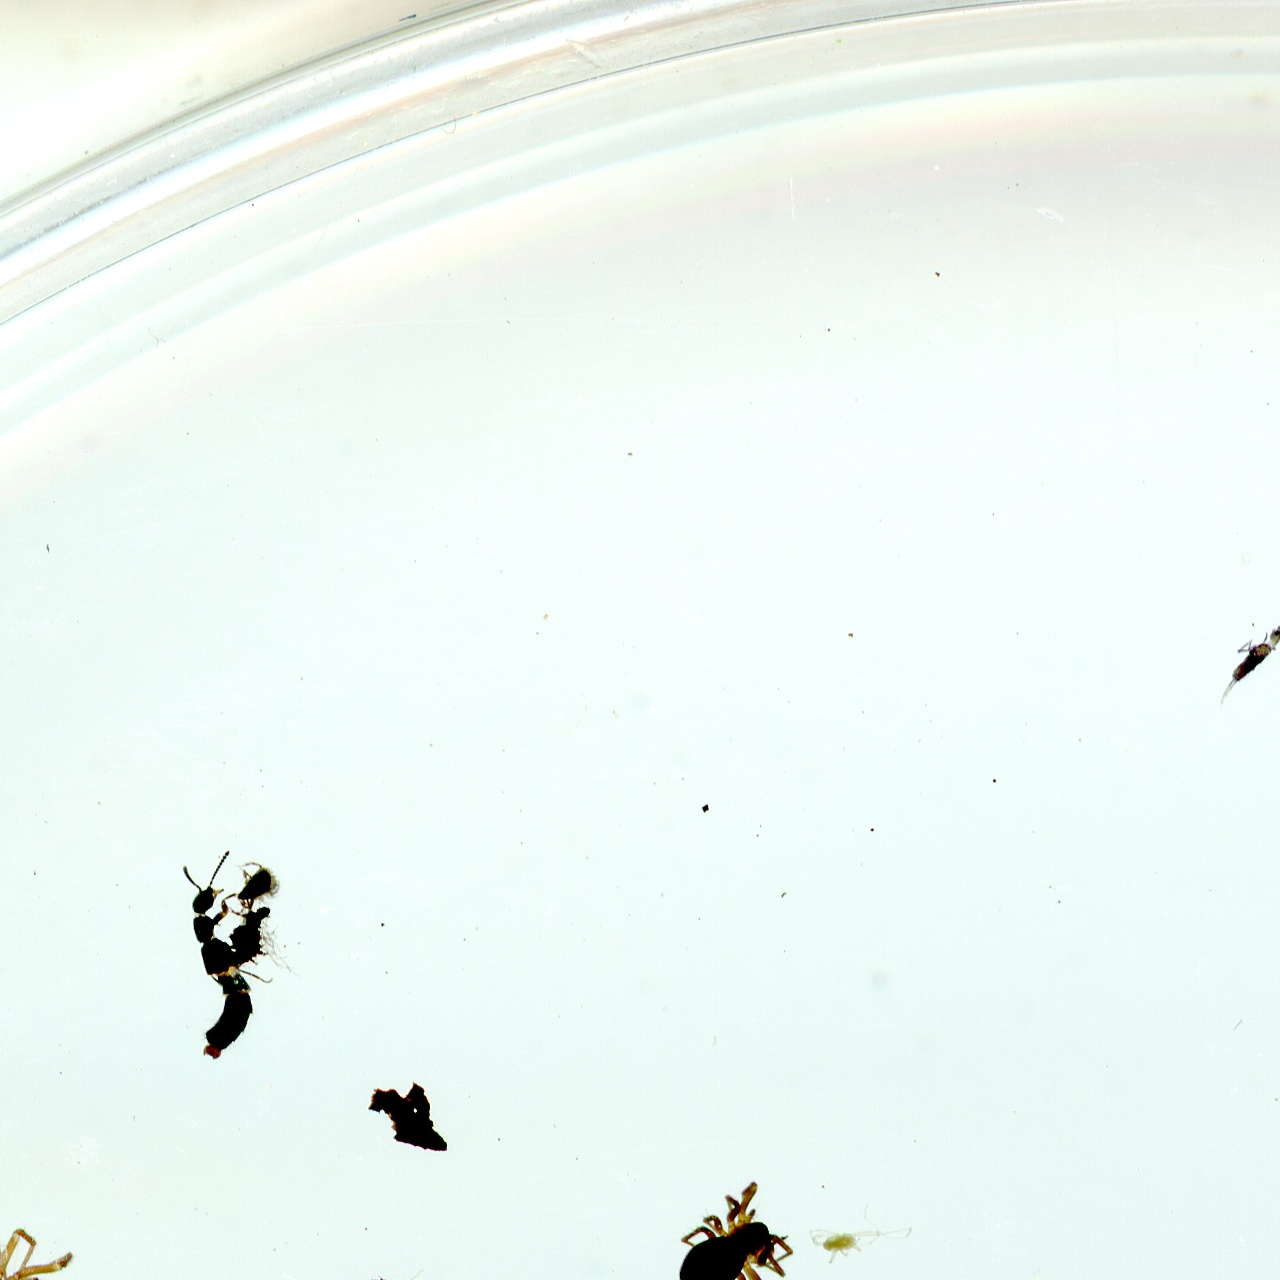arthropod: (181, 846, 274, 1057), (674, 1180, 796, 1280), (1200, 608, 1280, 716), (806, 1200, 915, 1267), (0, 1216, 103, 1280), (229, 859, 281, 921)
